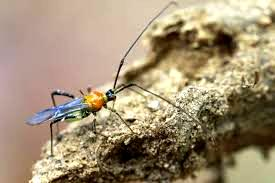Helopeltis-insect: (28, 87, 116, 128)
